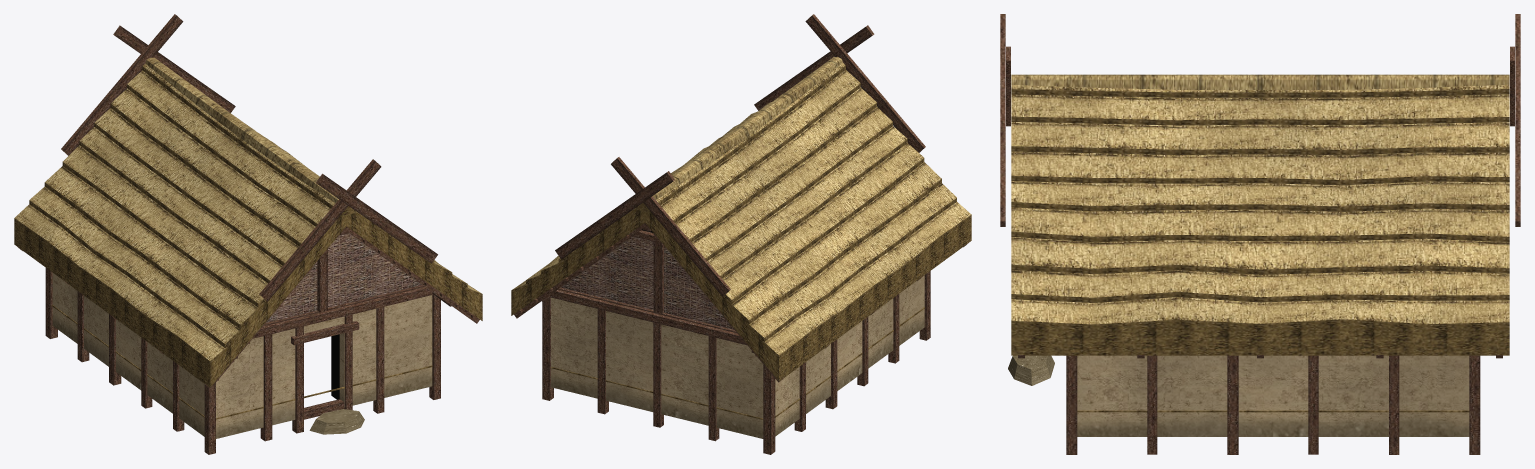
Rendered from vypleteny-construction.glb.
3 views of the same model, side by side, from view 1: azimuth 30°, elevation 25°; view 2: azimuth 150°, elevation 25°; view 3: azimuth 270°, elevation 25° (orthographic). The views are drawn at different scales.
Parts seen in each view (by area): view 1: vypleteny-daub-1, vypleteny-thatch-1, vypleteny-ridge, vypleteny-piles, vypleteny-thatch-3, vypleteny-thatch-4, vypleteny-thatch-7, vypleteny-thatch-6, vypleteny-thatch-2, vypleteny-daub-2, vypleteny-thatch-8, vypleteny-thatch-5 (+7 smaller); view 2: vypleteny-daub-1, vypleteny-thatch-1, vypleteny-ridge, vypleteny-daub-2, vypleteny-thatch-3, vypleteny-piles, vypleteny-thatch-4, vypleteny-thatch-7, vypleteny-thatch-2, vypleteny-thatch-6, vypleteny-wattle-3, vypleteny-thatch-8 (+6 smaller); view 3: vypleteny-thatch-1, vypleteny-daub-1, vypleteny-thatch-3, vypleteny-thatch-4, vypleteny-thatch-7, vypleteny-thatch-6, vypleteny-thatch-2, vypleteny-thatch-8, vypleteny-thatch-5, vypleteny-ridge, vypleteny-daub-2, vypleteny-piles (+3 smaller).
Part boxes in pixels (x1=…): vypleteny-daub-1: x1=52, y1=277, x2=432, y2=438; vypleteny-thatch-1: x1=14, y1=200, x2=482, y2=387; vypleteny-ridge: x1=61, y1=14, x2=437, y2=301; vypleteny-piles: x1=45, y1=268, x2=440, y2=454; vypleteny-thatch-3: x1=45, y1=145, x2=452, y2=351; vypleteny-thatch-4: x1=62, y1=133, x2=434, y2=330; vypleteny-thatch-7: x1=111, y1=84, x2=386, y2=272; vypleteny-thatch-6: x1=94, y1=104, x2=402, y2=292; vypleteny-thatch-2: x1=29, y1=142, x2=467, y2=369; vypleteny-daub-2: x1=52, y1=273, x2=432, y2=389; vypleteny-thatch-8: x1=127, y1=66, x2=369, y2=253; vypleteny-thatch-5: x1=79, y1=121, x2=417, y2=310; vypleteny-daub-1: x1=551, y1=279, x2=924, y2=438; vypleteny-thatch-1: x1=511, y1=146, x2=971, y2=381; vypleteny-ridge: x1=555, y1=14, x2=925, y2=296; vypleteny-daub-2: x1=551, y1=275, x2=924, y2=390; vypleteny-thatch-3: x1=541, y1=124, x2=941, y2=345; vypleteny-piles: x1=542, y1=271, x2=930, y2=454; vypleteny-thatch-4: x1=558, y1=111, x2=923, y2=324; vypleteny-thatch-7: x1=606, y1=83, x2=876, y2=268; vypleteny-thatch-2: x1=526, y1=137, x2=956, y2=363; vypleteny-thatch-6: x1=590, y1=93, x2=892, y2=287; vypleteny-wattle-3: x1=561, y1=236, x2=734, y2=329; vypleteny-thatch-8: x1=622, y1=65, x2=860, y2=249; vypleteny-thatch-1: x1=1011, y1=292, x2=1509, y2=355; vypleteny-daub-1: x1=1077, y1=374, x2=1469, y2=436; vypleteny-thatch-3: x1=1011, y1=231, x2=1509, y2=269; vypleteny-thatch-4: x1=1011, y1=202, x2=1509, y2=236; vypleteny-thatch-7: x1=1011, y1=116, x2=1509, y2=149; vypleteny-thatch-6: x1=1011, y1=146, x2=1509, y2=179; vypleteny-thatch-2: x1=1011, y1=264, x2=1509, y2=297; vypleteny-thatch-8: x1=1011, y1=89, x2=1509, y2=120; vypleteny-thatch-5: x1=1011, y1=175, x2=1509, y2=206; vypleteny-ridge: x1=1000, y1=14, x2=1520, y2=226; vypleteny-daub-2: x1=1077, y1=355, x2=1469, y2=374; vypleteny-piles: x1=1066, y1=355, x2=1480, y2=454.
Bounding box in the file's own units: 5.51 × 5.35 × 7.15.
1 material, 1 textured.
